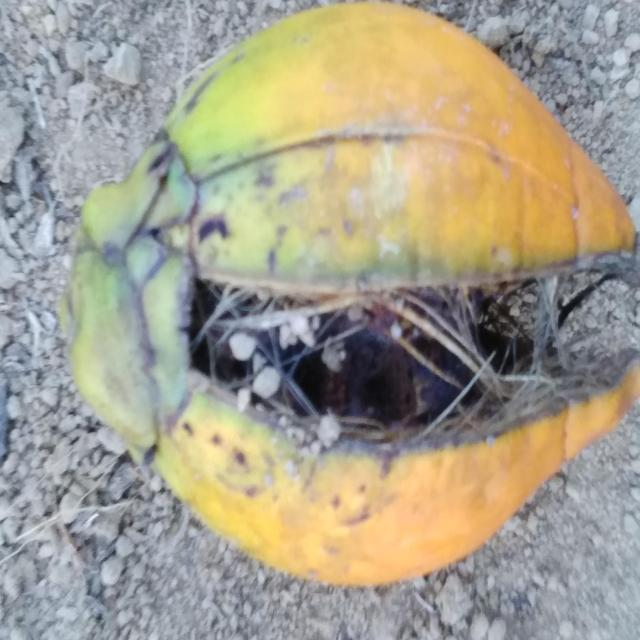damaged: (55, 0, 640, 640)
